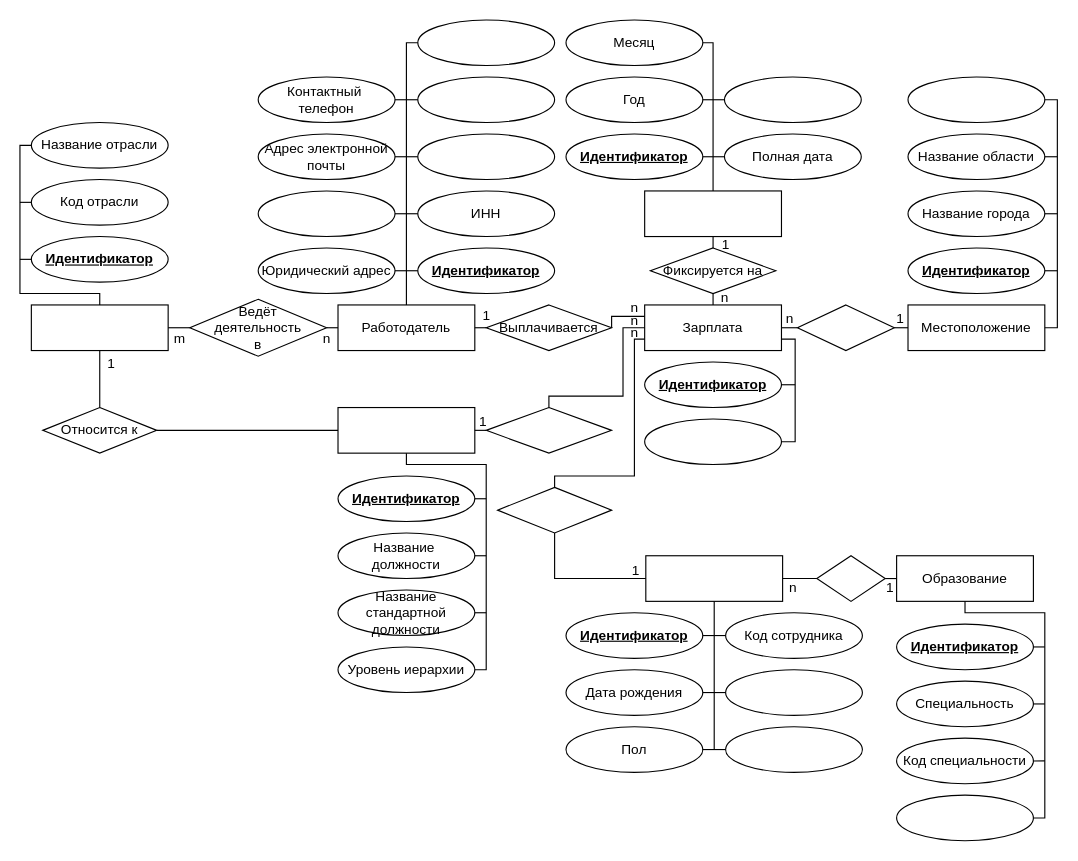
Image size: 1078x861. Some labels were removed from this diagram. Here are the shapes that lost their labels. From the top down, the centre of each, then its label:
(486,42): Дата регистрации
(486,99): КПП
(792,99): Квартал
(976,99): Название окрука
(486,156): ОГРН
(326,213): Название
(712,213): Дата
(99,327): Отрасль
(845,327): Имеет место в
(406,429): Должность
(548,429): Начисляется за
(712,441): Оклад
(554,509): Принадлежит
(714,578): Сотрудник
(850,578): Имеет
(793,692): Дата начала карьеры
(793,749): Дата оканчания карьеры
(964,817): Уровень образования
